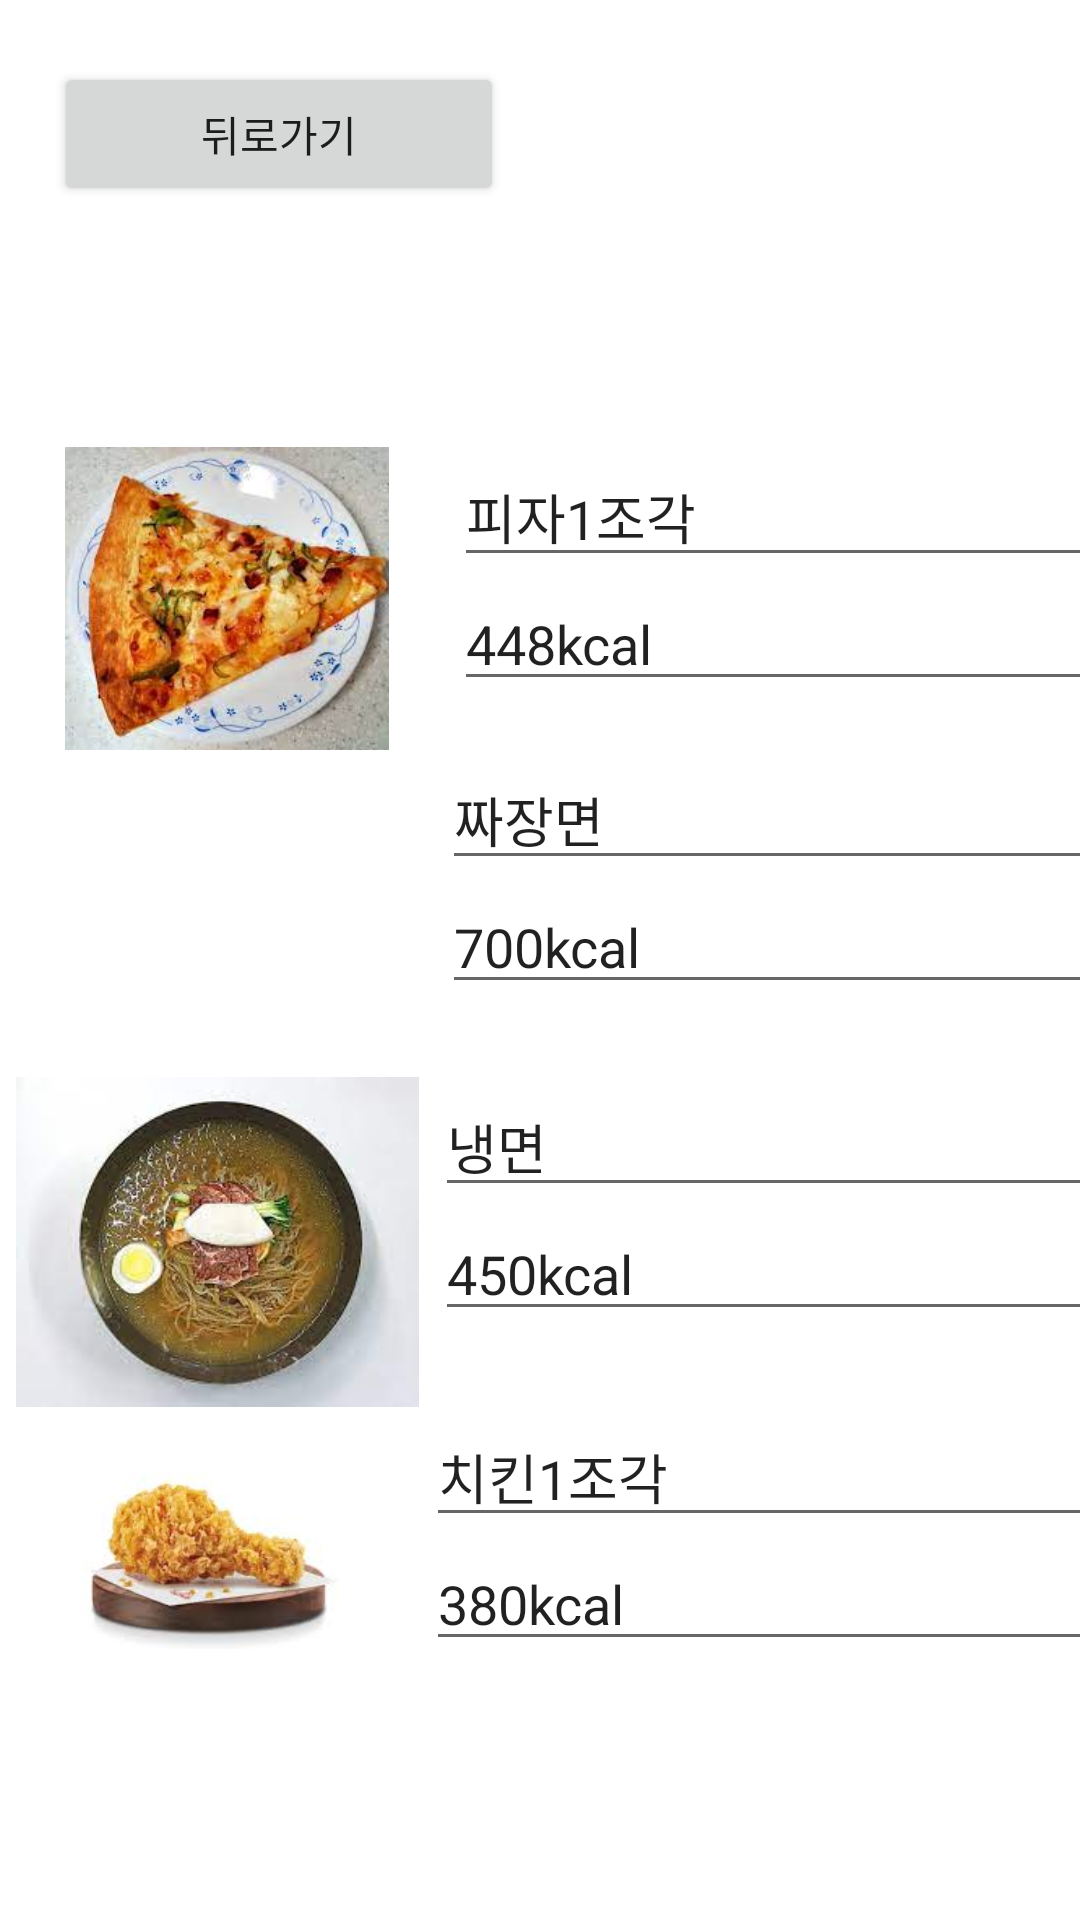

Where icons sit on this 1080px×1920px app screen, as (x1, y1, x2, y2):
choken: (91, 1481, 327, 1643)
